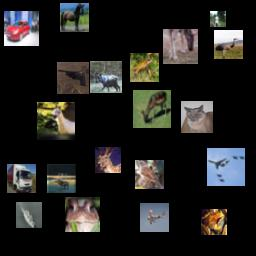airplane: (207, 148, 245, 186), (57, 62, 89, 94), (140, 203, 169, 232)
automobile: (4, 11, 39, 46)
bird: (135, 160, 164, 189), (214, 30, 243, 59)
cat: (181, 101, 213, 133)
deer: (133, 90, 171, 128), (163, 29, 198, 64), (90, 61, 122, 93), (47, 164, 76, 193), (95, 147, 121, 173)
dog: (210, 11, 226, 27)
frog: (65, 197, 100, 232), (130, 53, 159, 82), (201, 209, 227, 235)
ship: (16, 202, 42, 228)
truck: (7, 164, 36, 193)
